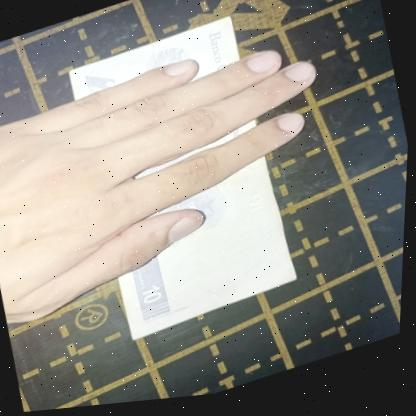ten-back-vef: (57, 11, 310, 355)
